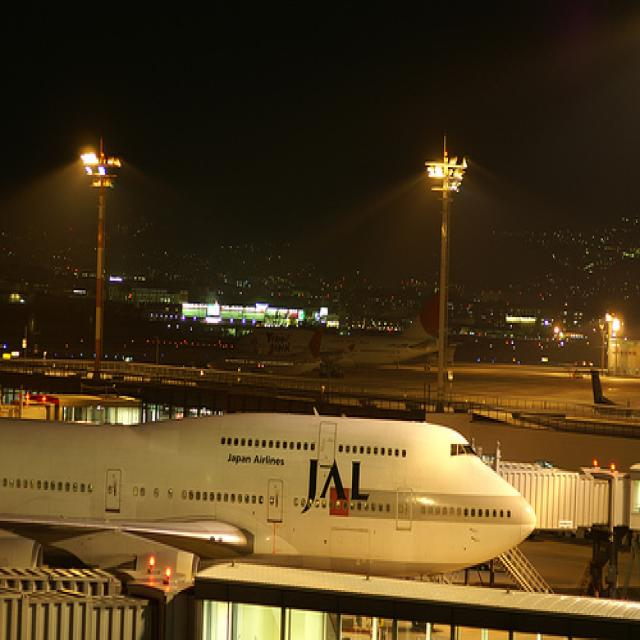aeroplane: (1, 411, 539, 580), (234, 287, 445, 380), (206, 324, 326, 376), (590, 368, 640, 412)
